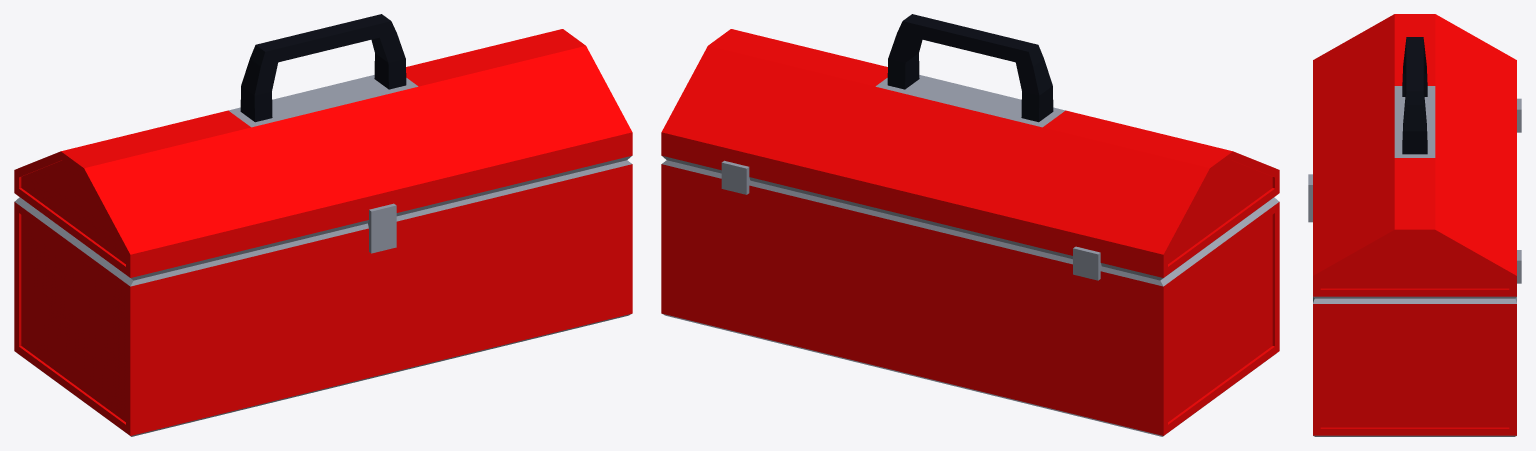
The model's file is toolbox.fbx.
3 views of the same model, side by side, from view 1: azimuth 30°, elevation 25°; view 2: azimuth 150°, elevation 25°; view 3: azimuth 270°, elevation 25° (orthographic). The views are drawn at different scales.
Visible parts, largest first — view 1: ToolBox; view 2: ToolBox; view 3: ToolBox.
Part boxes in pixels (x1,y1,x2,y2): ToolBox: (14,14,632,436); ToolBox: (661,14,1279,436); ToolBox: (1308,14,1521,436).
Size of the model in its own units: 83.51 by 200 by 115.
1 material, 1 textured.
